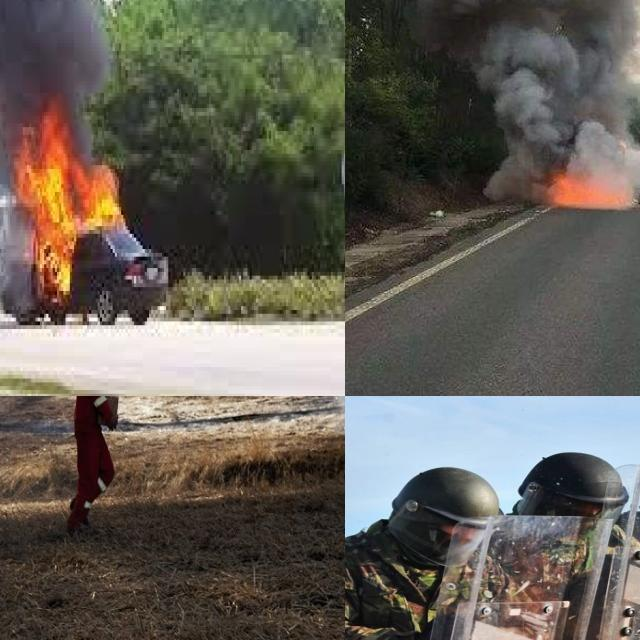fire: (8, 100, 128, 295), (552, 160, 640, 214)
smoke: (359, 0, 640, 132), (0, 0, 110, 150), (480, 136, 550, 203)
